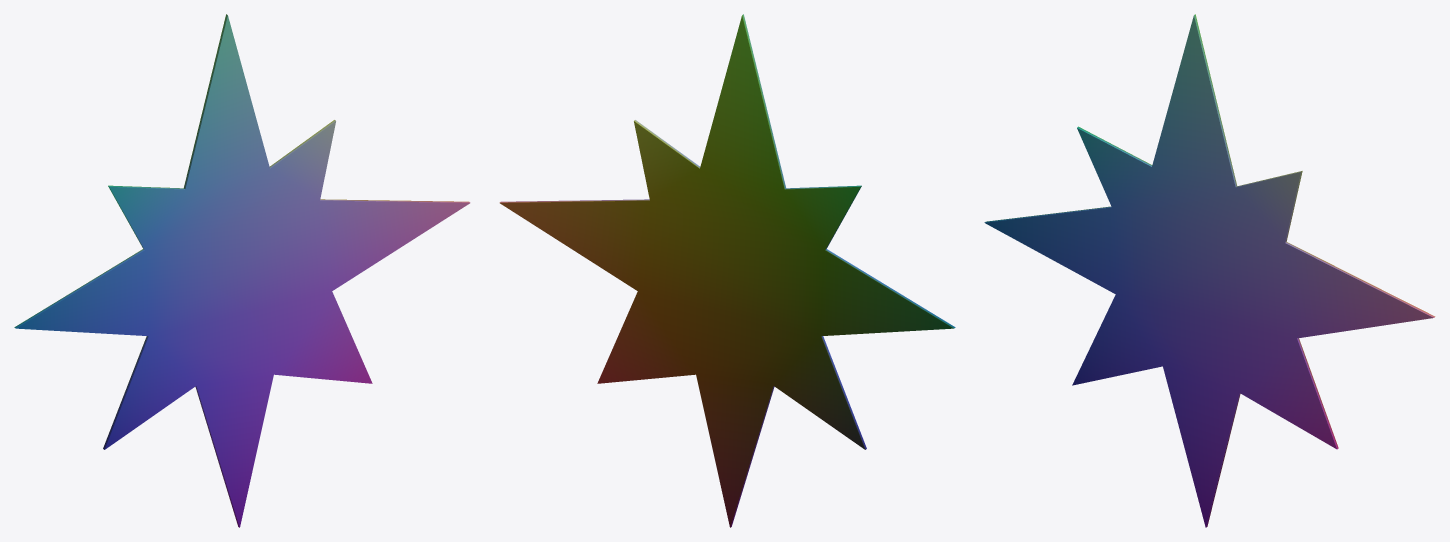
The model's file is zeometry-flat-shapes-flat-star_v1.glb.
3 renders of one model, left to right at view 1: azimuth 30°, elevation 25°; view 2: azimuth 150°, elevation 25°; view 3: azimuth 330°, elevation 25°, orthographic.
Visible parts, largest first — view 1: Flat Star_v1; view 2: Flat Star_v1; view 3: Flat Star_v1.
Boxes of the visible parts, box(x1,y1,x2,y2) form: Flat Star_v1: box(14, 14, 470, 527); Flat Star_v1: box(499, 14, 955, 527); Flat Star_v1: box(984, 14, 1435, 527).
Size of the model in its own units: 0.4615 by 0.5 by 0.00298.
